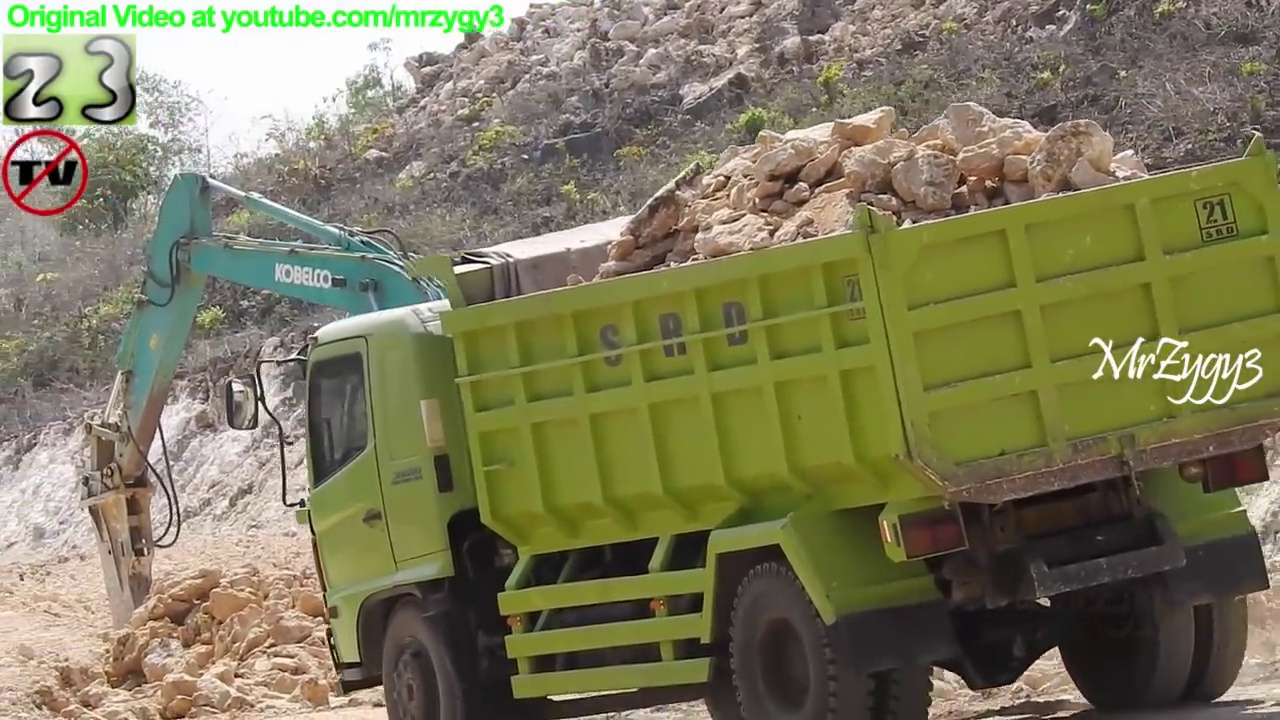excavator: (68, 164, 800, 674)
truck: (217, 121, 1280, 720)
